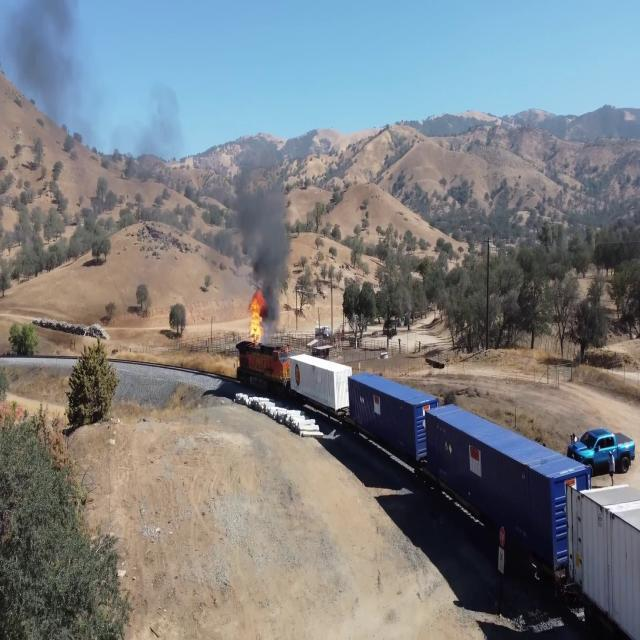Fire: (236, 287, 274, 343)
Smoke: (243, 160, 288, 278)
